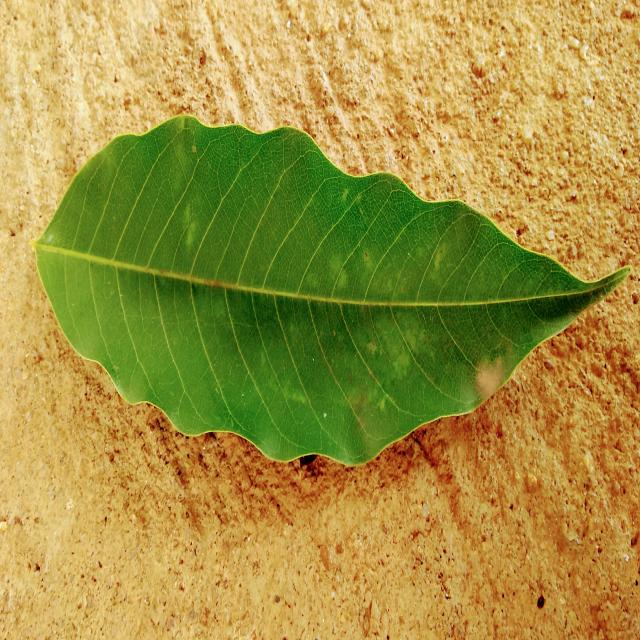sampige: (35, 116, 578, 464)
